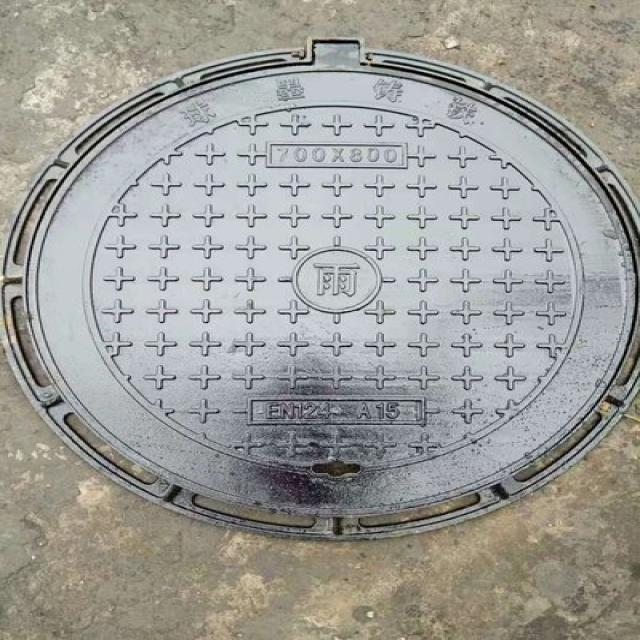manhole: (0, 39, 640, 538)
